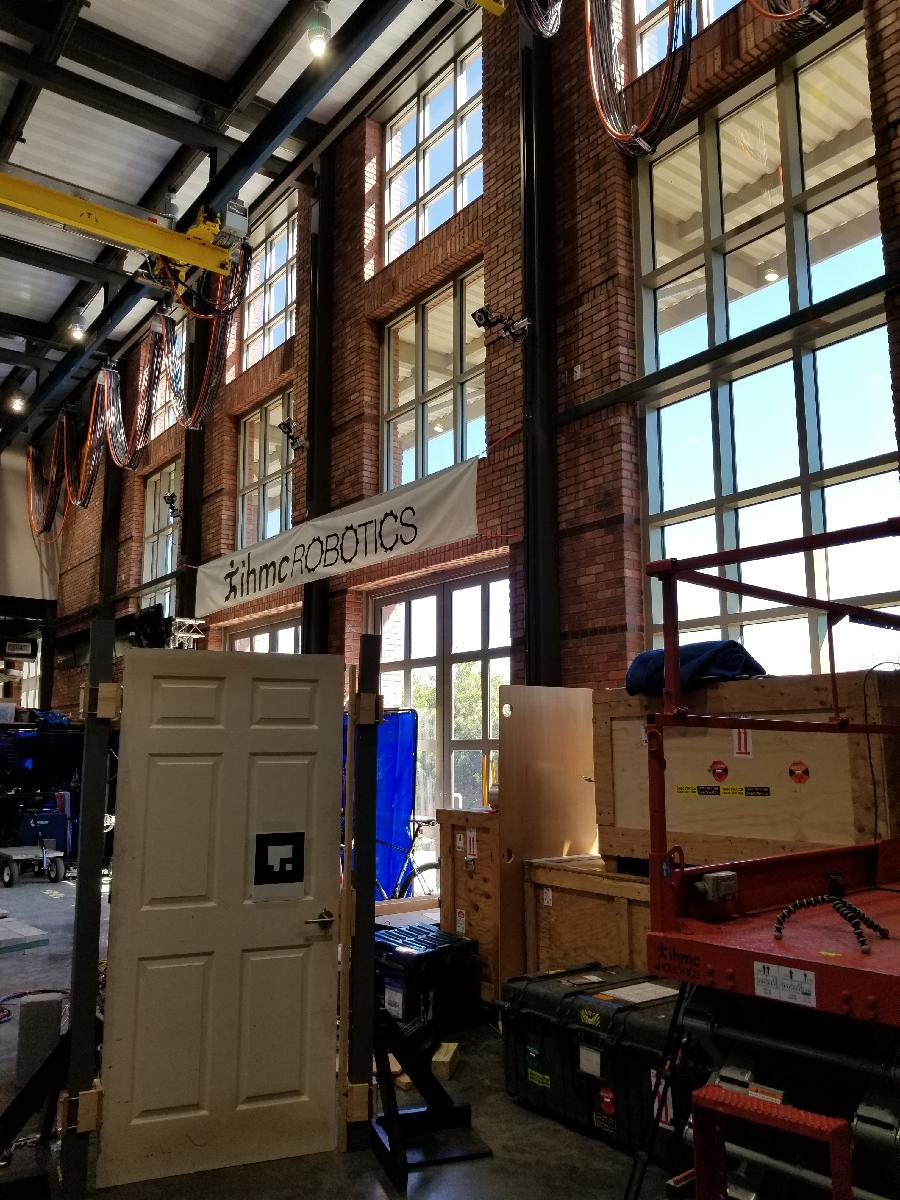door: (90, 645, 347, 1189)
doorHandle: (304, 905, 338, 936)
